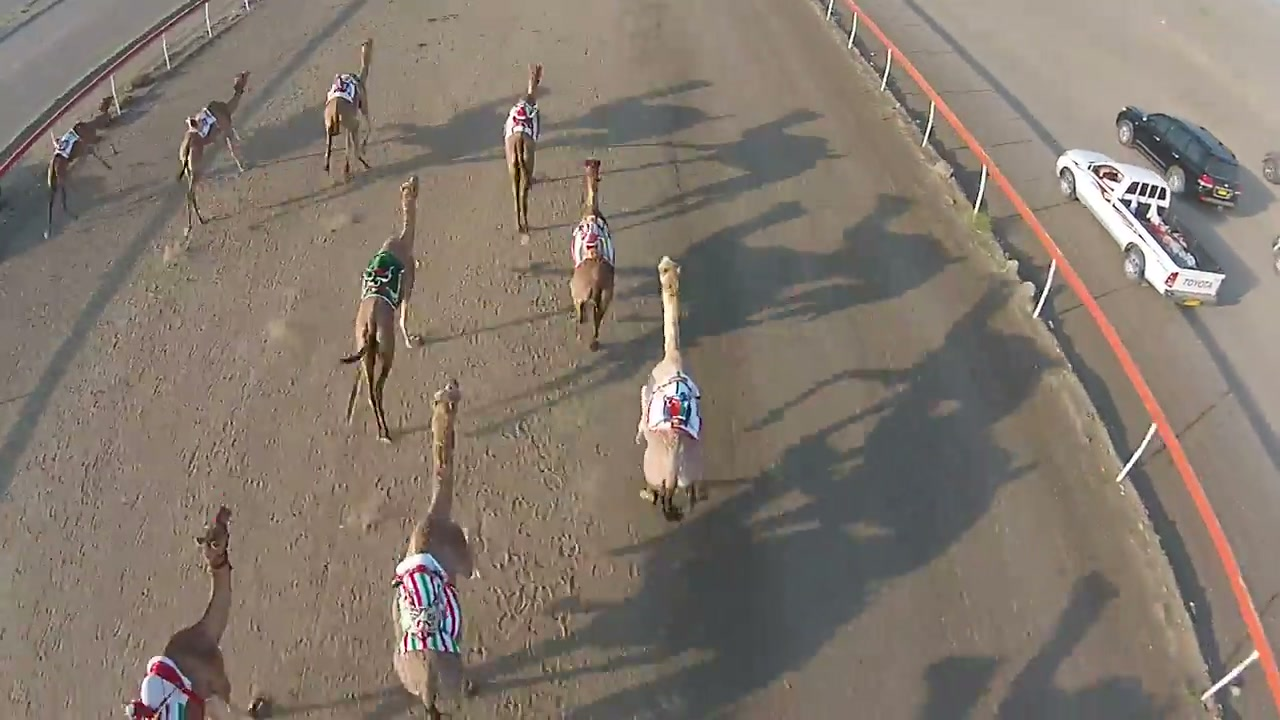animal_footprint: (4, 220, 244, 718), (497, 237, 626, 719), (291, 417, 389, 715)
